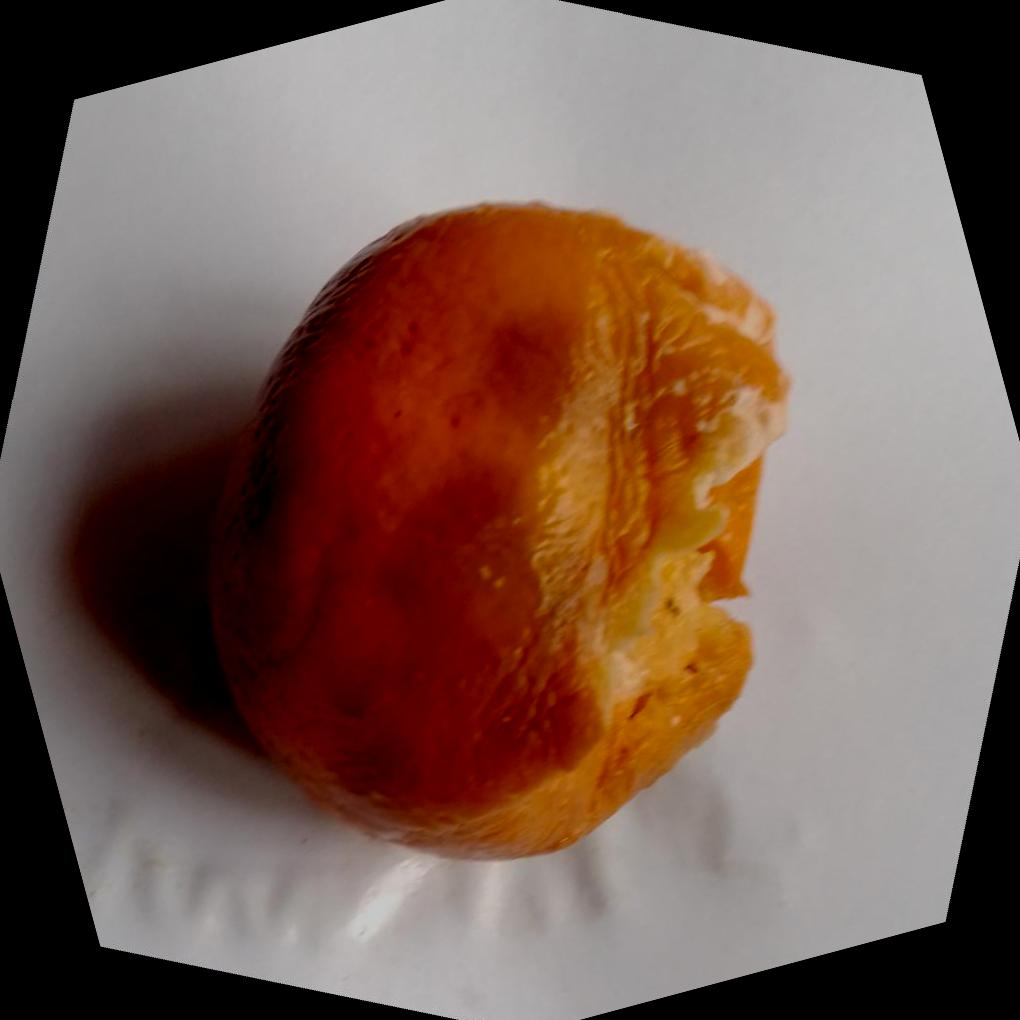FreshOrange: (198, 200, 789, 865)
